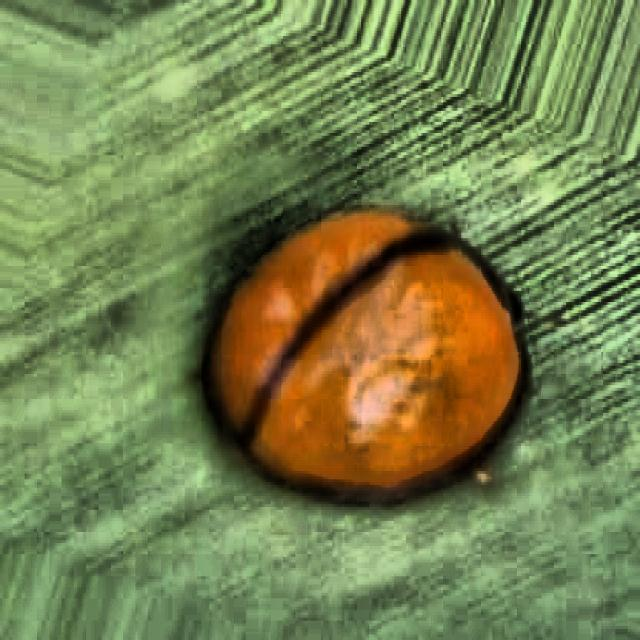Ladybug: (146, 124, 572, 550)
